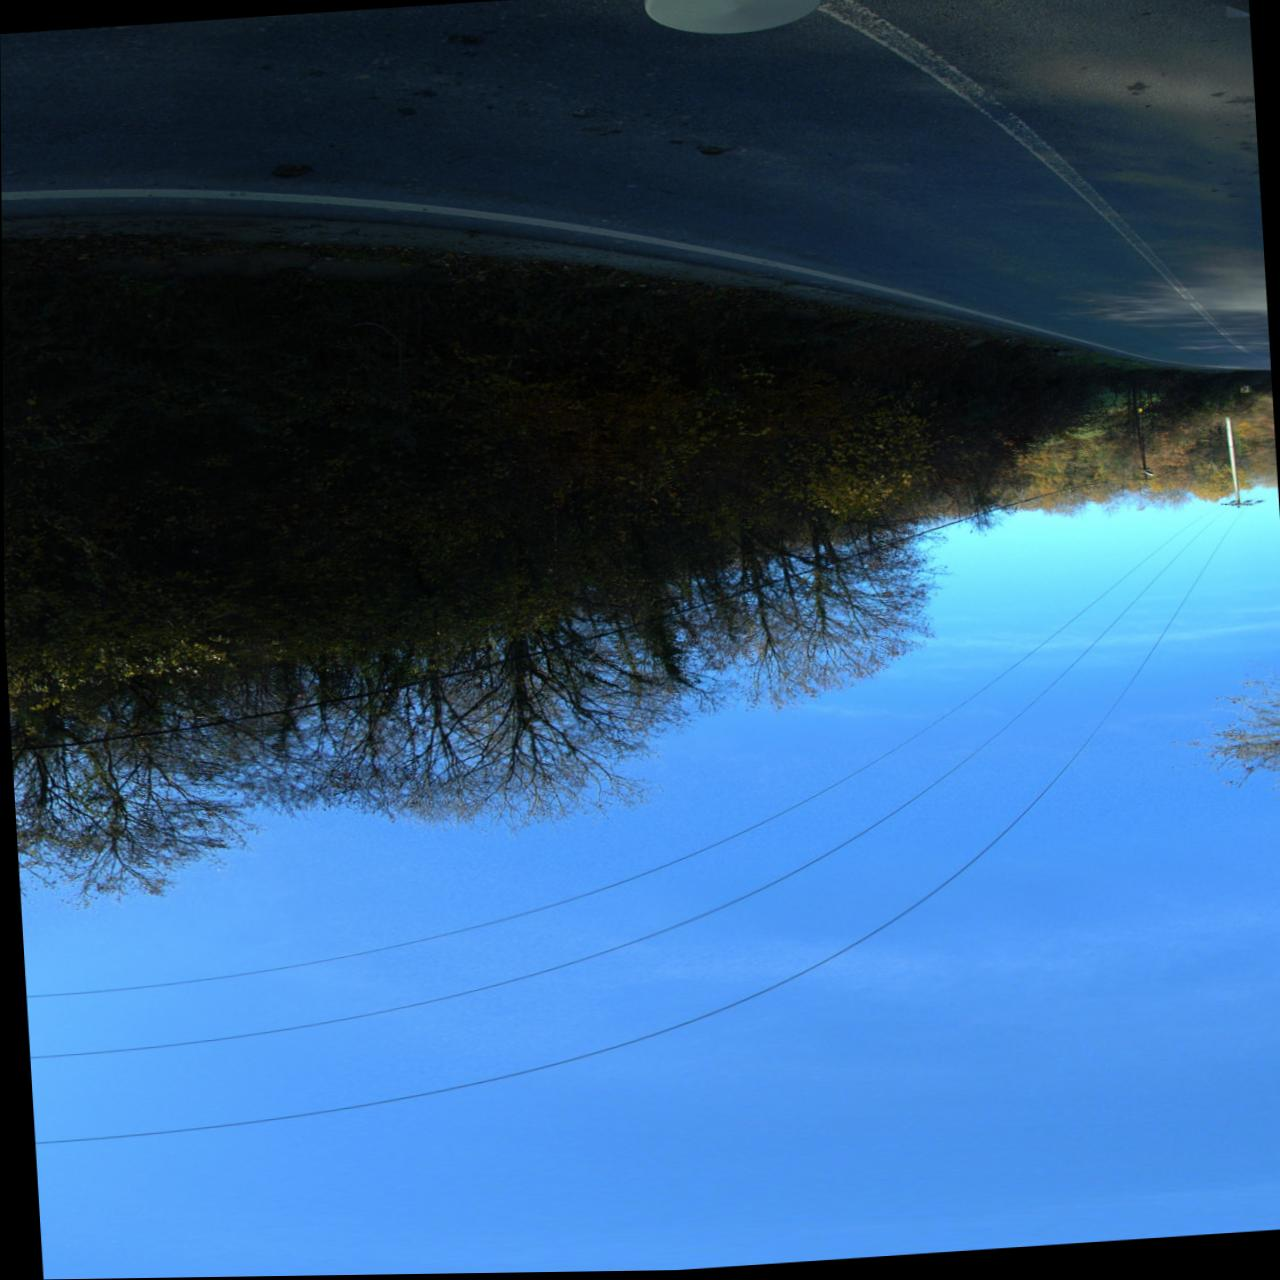Utility Pole Information Plate: (1137, 410, 1142, 415)
